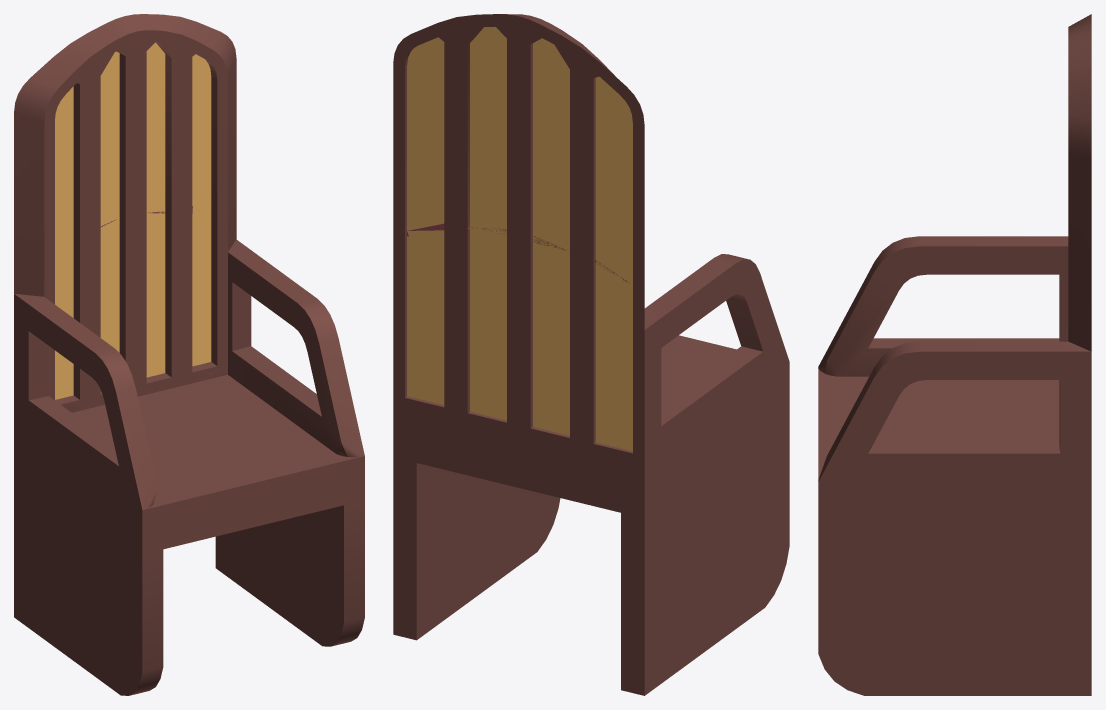
The model's file is KM_chaise.FBX.
The picture shows the model from 3 angles, left to right: view 1: azimuth 30°, elevation 25°; view 2: azimuth 150°, elevation 25°; view 3: azimuth 270°, elevation 25°; orthographic projection. The views are drawn at different scales.
Visible parts, largest first — view 1: Haut_chaise, Bas_chaise, Object; view 2: Haut_chaise, Bas_chaise, Object; view 3: Haut_chaise, Bas_chaise, Object.
Part boxes in pixels (<box>): Haut_chaise: <box>14,210,364,532</box>; Bas_chaise: <box>14,438,364,695</box>; Object: <box>14,14,236,270</box>; Haut_chaise: <box>393,223,789,493</box>; Bas_chaise: <box>393,388,789,695</box>; Object: <box>393,14,644,296</box>; Haut_chaise: <box>818,236,1091,505</box>; Bas_chaise: <box>818,505,1091,695</box>; Object: <box>1068,14,1091,320</box>.
Size of the model in its own units: 19 by 46.86 by 19.
